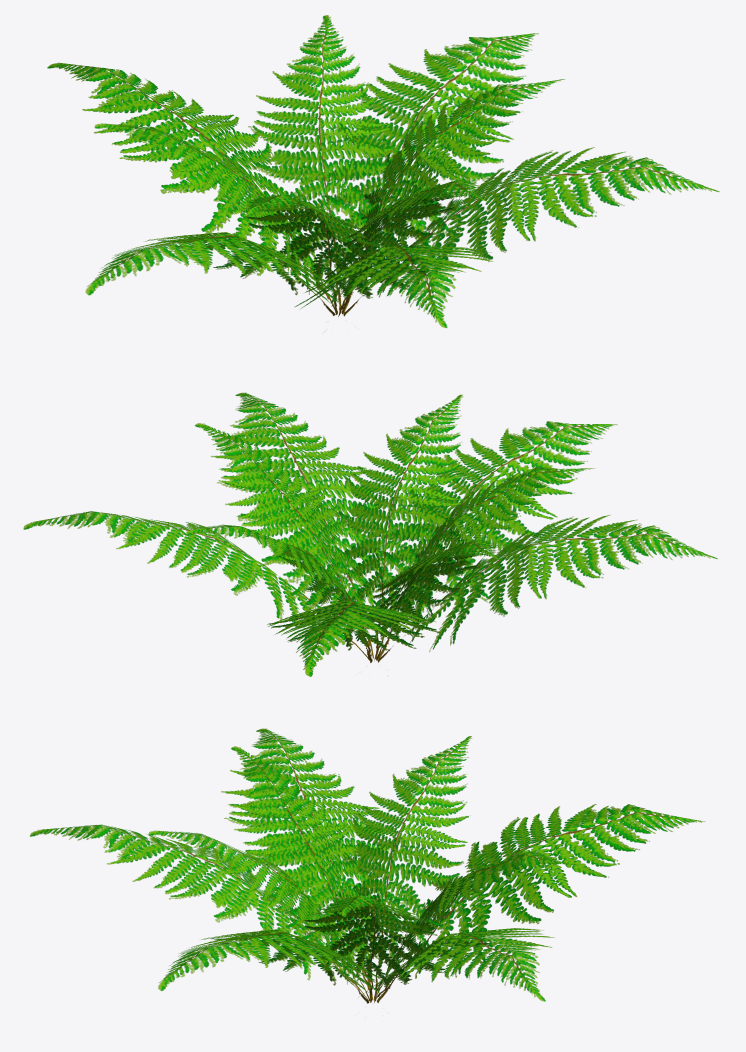
File: fern.glb
The picture shows the model from 3 angles, top to bottom: view 1: azimuth 30°, elevation 25°; view 2: azimuth 150°, elevation 25°; view 3: azimuth 270°, elevation 25°; orthographic projection. The views are drawn at different scales.
Parts seen in each view (by area): view 1: fougere.002, fougere.007, fougere.006, fougere.010, fougere.003, fougere.008, fougere.009, fougere.005, fougere.001, fougere.004, fougere.011; view 2: fougere.004, fougere.008, fougere.009, fougere.006, fougere.003, fougere.007, fougere.005, fougere.010, fougere.001, fougere.002, fougere.011; view 3: fougere.010, fougere.001, fougere.005, fougere.009, fougere.008, fougere.007, fougere.006, fougere.003, fougere.004, fougere.002, fougere.011.
Boxes of the visible parts, x1,y1,x2,y2 form: fougere.002: (248, 15, 396, 310); fougere.007: (317, 33, 538, 313); fougere.006: (343, 147, 719, 316); fougere.010: (47, 63, 331, 302); fougere.003: (341, 79, 564, 314); fougere.008: (295, 246, 492, 328); fougere.009: (85, 232, 344, 315); fougere.005: (243, 194, 388, 314); fougere.001: (94, 123, 335, 312); fougere.004: (326, 180, 487, 312); fougere.011: (51, 63, 329, 299); fougere.004: (330, 394, 464, 658); fougere.008: (373, 421, 617, 659); fougere.009: (378, 515, 717, 662); fougere.006: (211, 392, 401, 658); fougere.003: (195, 423, 372, 657); fougere.007: (23, 511, 368, 659); fougere.005: (376, 467, 594, 660); fougere.010: (267, 600, 440, 676); fougere.001: (358, 540, 502, 660); fougere.002: (186, 524, 371, 651); fougere.011: (269, 601, 439, 676); fougere.010: (377, 804, 705, 1002); fougere.001: (332, 736, 471, 1000); fougere.005: (231, 746, 381, 991); fougere.009: (221, 728, 406, 999); fougere.008: (30, 824, 368, 1000); fougere.007: (359, 928, 554, 1001); fougere.006: (158, 929, 384, 1003); fougere.003: (303, 895, 437, 1002); fougere.004: (148, 830, 370, 1000); fougere.002: (374, 851, 573, 1002); fougere.011: (378, 804, 701, 1002).
Bounding box in the file's own units: 1.17 × 0.3817 × 1.2.
1 material, 1 textured.
